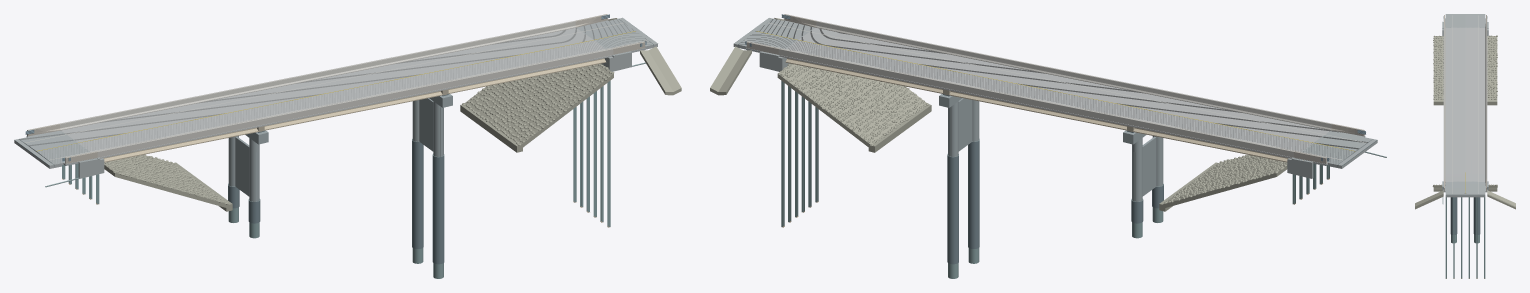
The picture shows the model from 3 angles, left to right: view 1: azimuth 30°, elevation 25°; view 2: azimuth 150°, elevation 25°; view 3: azimuth 270°, elevation 25°; orthographic projection. The views are drawn at different scales.
Parts seen in each view (by area): view 1: deck, riprap_north, rail_L, rail_R, riprap_north_stones, riprap_south_stones, b3_casing_R, approach_south, b3_casing_L, approach_north, riprap_south, riprap_turnout_R (+16 smaller); view 2: deck, riprap_north, rail_R, rail_L, riprap_north_stones, riprap_south_stones, approach_south, b3_casing_L, b3_casing_R, approach_north, riprap_south, riprap_turnout_L (+16 smaller); view 3: deck, riprap_south, riprap_south_stones, approach_north, approach_south, rail_L, rail_R, b3_casing_L, b3_casing_R, riprap_turnout_R, riprap_turnout_L, marking_edge_L (+11 smaller).
Boxes of the visible parts, <box> form: deck: <box>61,28,612,158</box>; riprap_north: <box>465,63,613,147</box>; rail_L: <box>60,21,576,130</box>; rail_R: <box>97,48,613,157</box>; riprap_north_stones: <box>462,64,614,145</box>; riprap_south_stones: <box>104,154,227,204</box>; b3_casing_R: <box>432,154,444,264</box>; approach_south: <box>19,130,90,166</box>; b3_casing_L: <box>412,139,423,248</box>; approach_north: <box>577,19,653,49</box>; riprap_south: <box>104,155,229,208</box>; riprap_turnout_R: <box>640,46,681,95</box>; deck: <box>779,27,1330,158</box>; riprap_north: <box>777,64,926,149</box>; rail_R: <box>815,21,1331,130</box>; rail_L: <box>778,48,1294,157</box>; riprap_north_stones: <box>778,63,929,146</box>; riprap_south_stones: <box>1164,154,1287,203</box>; approach_south: <box>1302,131,1372,166</box>; b3_casing_L: <box>947,154,958,264</box>; b3_casing_R: <box>968,140,979,248</box>; approach_north: <box>738,19,814,49</box>; riprap_south: <box>1162,155,1287,208</box>; riprap_turnout_L: <box>710,46,751,95</box>; deck: <box>1443,27,1487,181</box>; riprap_south: <box>1433,36,1497,100</box>; riprap_south_stones: <box>1433,35,1497,99</box>; approach_north: <box>1445,181,1485,194</box>; approach_south: <box>1445,15,1485,27</box>; rail_L: <box>1485,24,1486,181</box>; rail_R: <box>1444,24,1445,181</box>; b3_casing_L: <box>1473,197,1480,234</box>; b3_casing_R: <box>1450,197,1457,234</box>; riprap_turnout_R: <box>1415,190,1443,209</box>; riprap_turnout_L: <box>1487,190,1515,209</box>; marking_edge_L: <box>1478,15,1478,193</box>.
Size of the model in its own units: 92.05 by 31.08 by 23.16.
